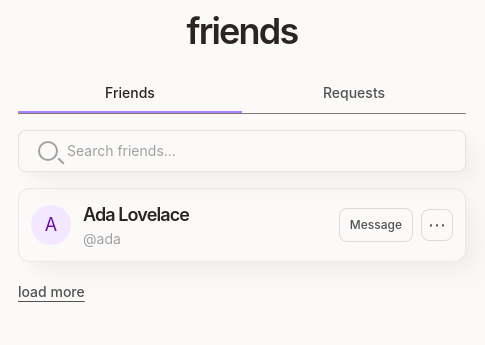
Test case: friends page › does not claim there are no matches while more friend pages remain
Check: the text "Ada Lovelace" is shown, box x1=83 y1=201 x2=189 y2=229
Type "not-loaded" into the field labelled "Search friends".
click(242, 151); type("not-loaded")  # box x1=18 y1=130 x2=466 y2=172
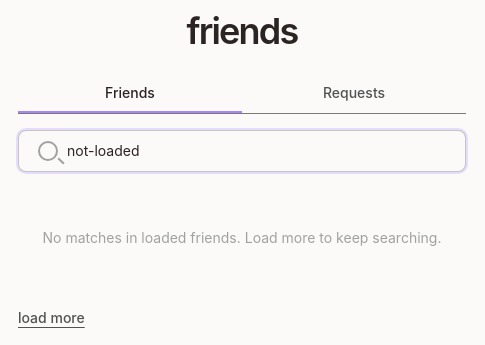
Check: the button "load more" is shown, box x1=18 y1=308 x2=85 y2=328
Check: the text "No matches in loaded friends. Load more to keep searching." is shown, box x1=42 y1=229 x2=441 y2=246
